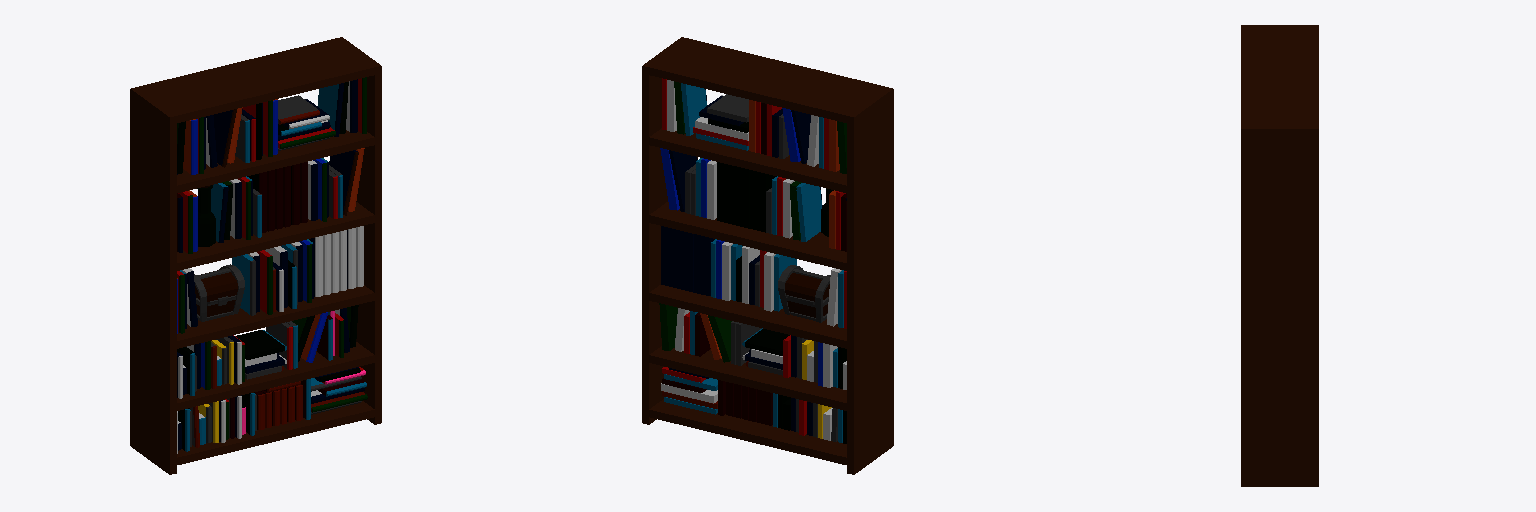
Rendered from Bookshelf.obj.
3 renders of one model, left to right at view 1: azimuth 30°, elevation 25°; view 2: azimuth 150°, elevation 25°; view 3: azimuth 270°, elevation 25°, orthographic.
Visible parts, largest first — view 1: Bookshelf_Cube, Chest_Cube.049, Bottle_Circle, Book.112_Cube.115, Book.064_Cube.067, Book.033_Cube.034, Book.007_Cube.009, Book.044_Cube.045, Book.047_Cube.048, Book.059_Cube.062, Book.029_Cube.030, Book.014_Cube.016 (+14 smaller); view 2: Bookshelf_Cube, Chest_Cube.049, Book.029_Cube.030, Book.044_Cube.045, Book.047_Cube.048, Book.112_Cube.115, Book.007_Cube.009, Book.066_Cube.069, Book.077_Cube.080, Book.033_Cube.034, Book.063_Cube.066, Book.015_Cube.017 (+8 smaller); view 3: Bookshelf_Cube.
Boxes of the visible parts, x1=… form: Bookshelf_Cube: x1=130, y1=37, x2=381, y2=474; Chest_Cube.049: x1=194, y1=264, x2=244, y2=321; Bottle_Circle: x1=197, y1=185, x2=215, y2=246; Book.112_Cube.115: x1=236, y1=330, x2=286, y2=359; Book.064_Cube.067: x1=232, y1=254, x2=255, y2=315; Book.033_Cube.034: x1=213, y1=109, x2=236, y2=167; Book.007_Cube.009: x1=329, y1=150, x2=358, y2=215; Book.044_Cube.045: x1=318, y1=83, x2=343, y2=136; Book.047_Cube.048: x1=278, y1=95, x2=319, y2=124; Book.059_Cube.062: x1=257, y1=250, x2=272, y2=314; Book.029_Cube.030: x1=211, y1=183, x2=228, y2=242; Book.014_Cube.016: x1=183, y1=119, x2=197, y2=174; Bookshelf_Cube: x1=642, y1=37, x2=893, y2=474; Chest_Cube.049: x1=778, y1=265, x2=830, y2=322; Book.029_Cube.030: x1=796, y1=183, x2=822, y2=241; Book.044_Cube.045: x1=681, y1=83, x2=707, y2=135; Book.047_Cube.048: x1=707, y1=94, x2=748, y2=122; Book.112_Cube.115: x1=742, y1=328, x2=789, y2=355; Book.007_Cube.009: x1=669, y1=150, x2=697, y2=211; Book.066_Cube.069: x1=659, y1=303, x2=677, y2=350; Book.077_Cube.080: x1=708, y1=315, x2=731, y2=362; Book.033_Cube.034: x1=791, y1=110, x2=810, y2=163; Book.063_Cube.066: x1=764, y1=252, x2=775, y2=311; Book.015_Cube.017: x1=707, y1=160, x2=716, y2=219; Bookshelf_Cube: x1=1241, y1=25, x2=1318, y2=486.
Bounding box in the file's own units: 1.24 × 2 × 0.4.